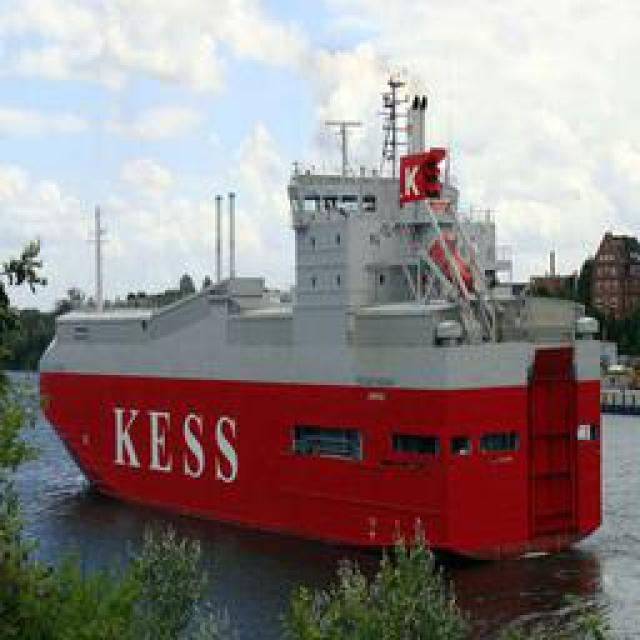Ship: (36, 68, 617, 566)
